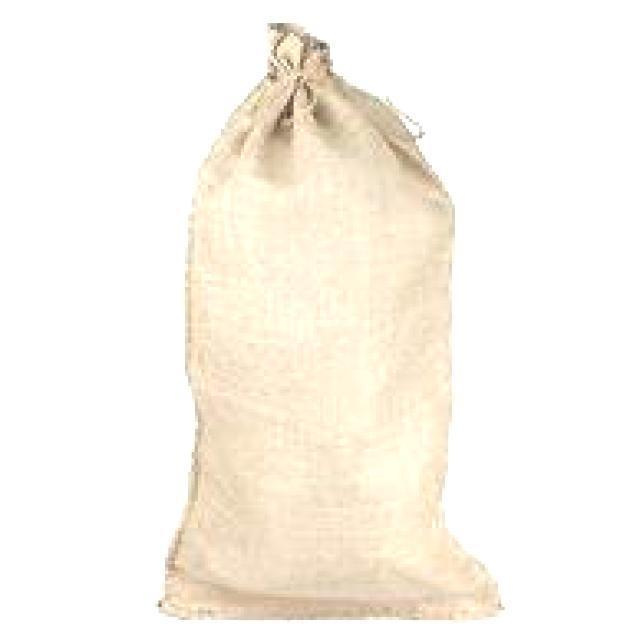gunny_bag: (152, 17, 506, 627)
